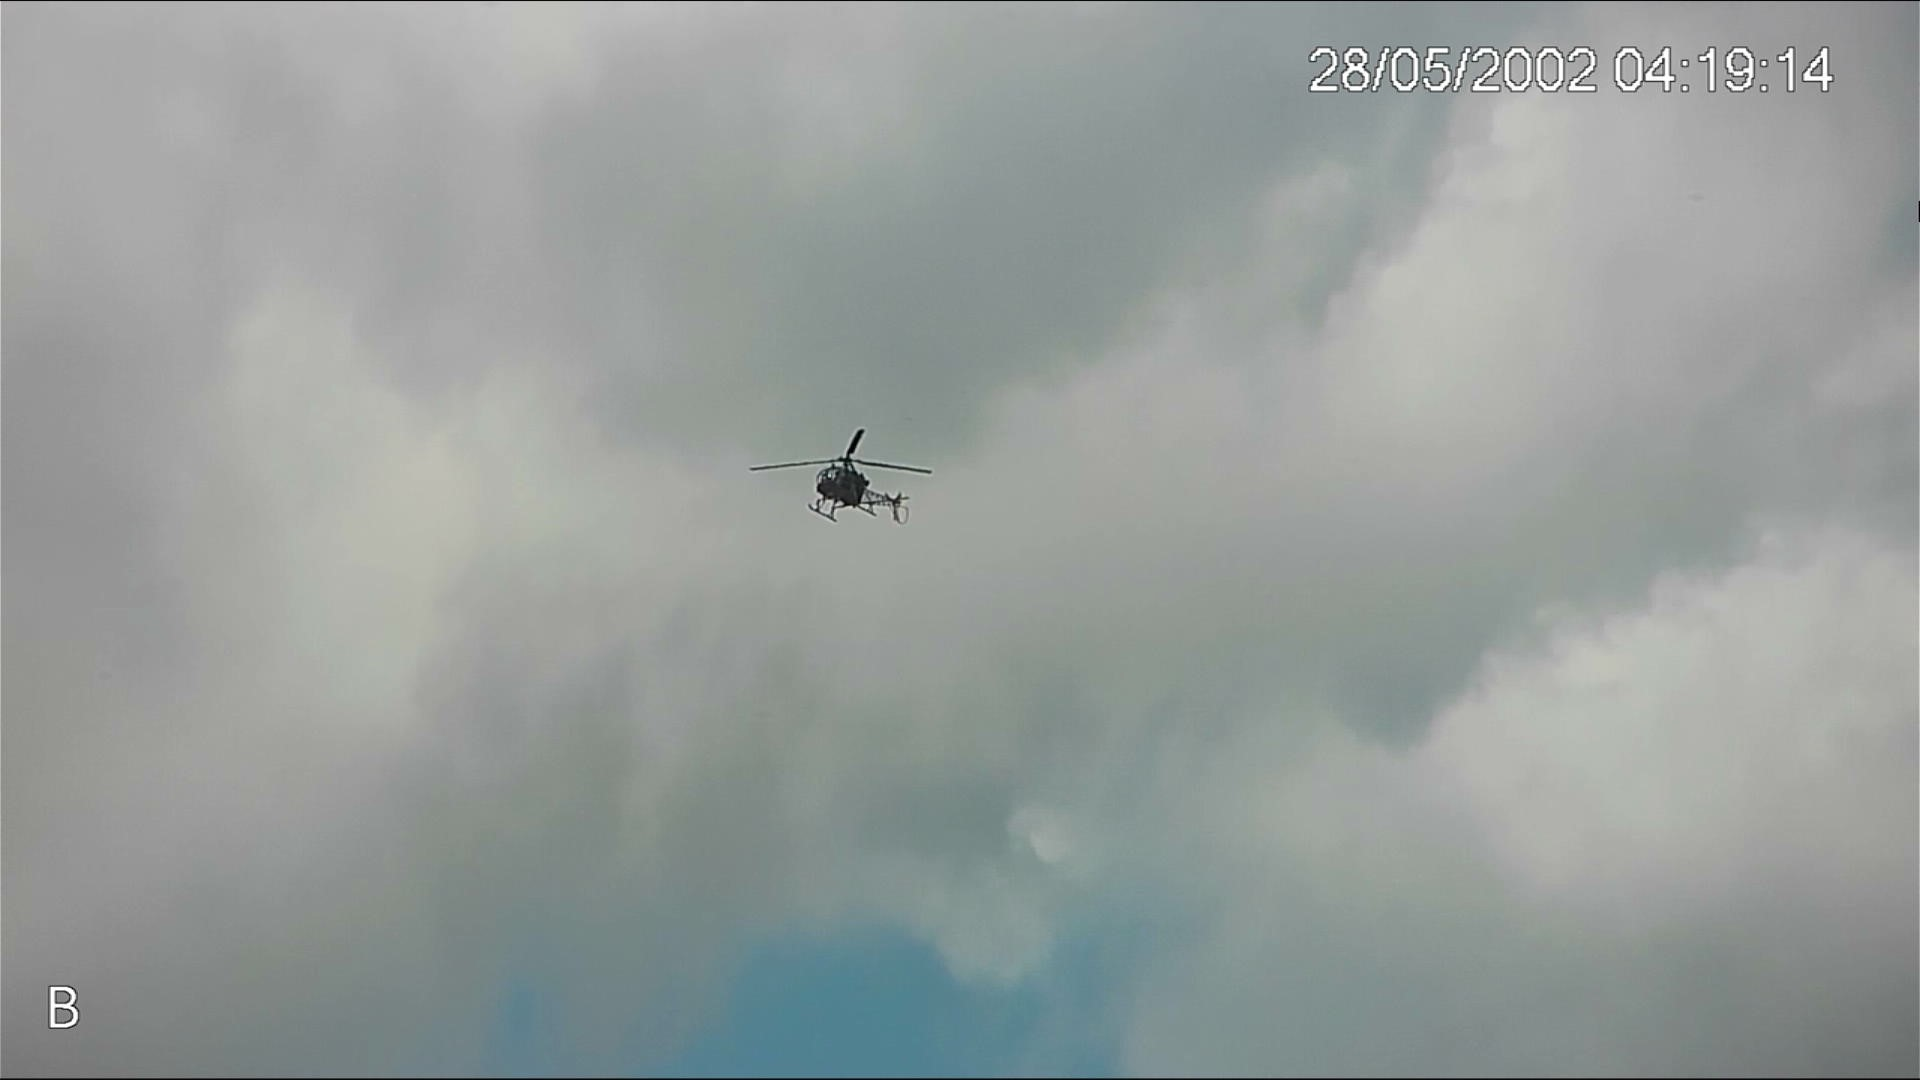SU_30: (802, 450, 922, 531)
